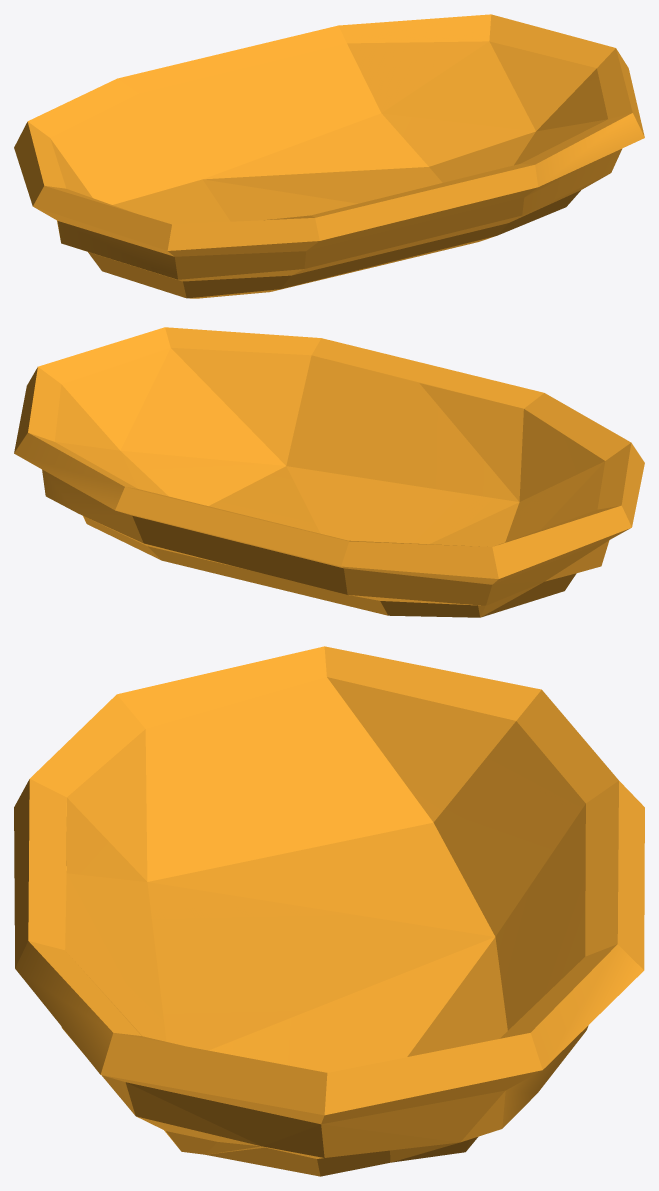
The model's file is SM_Basket_F_Farm.fbx.
3 views of the same model, one above another, from view 1: azimuth 30°, elevation 25°; view 2: azimuth 150°, elevation 25°; view 3: azimuth 270°, elevation 25° (orthographic). The views are drawn at different scales.
Visible parts, largest first — view 1: basket-f-farm; view 2: basket-f-farm; view 3: basket-f-farm.
Part boxes in pixels (x1,y1,x2,y2): basket-f-farm: [14, 14, 644, 298]; basket-f-farm: [14, 327, 644, 617]; basket-f-farm: [14, 646, 644, 1176].
Bounding box in the file's own units: 0.6069 × 0.1197 × 0.3685.
